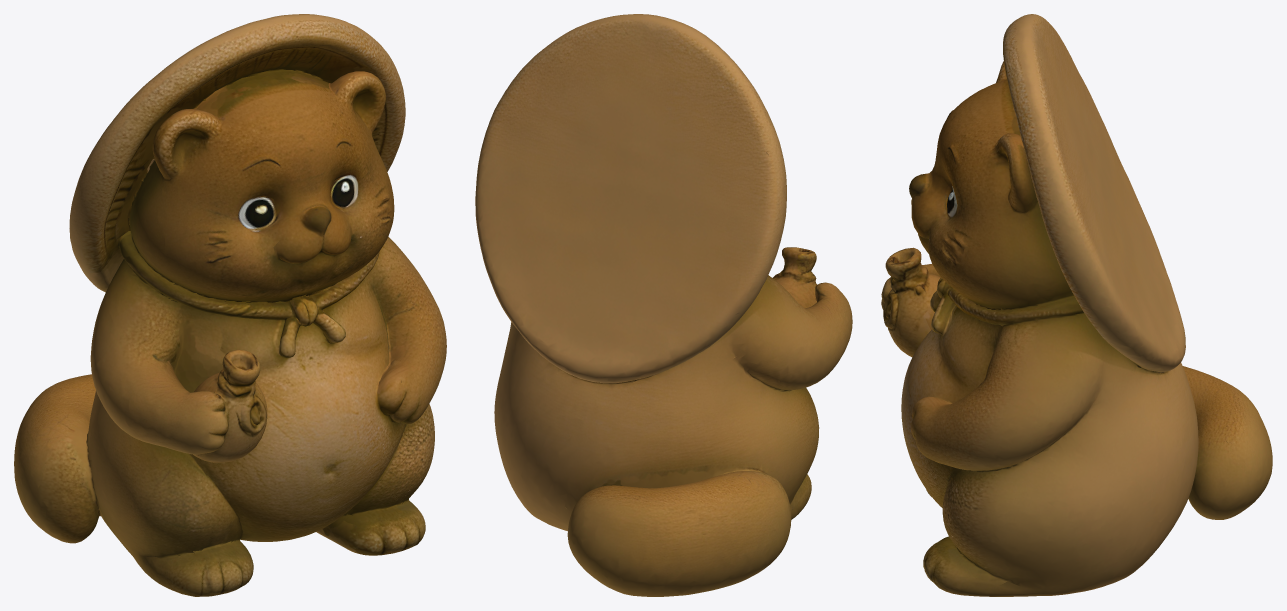
File: tanuki.glb
3 renders of one model, left to right at view 1: azimuth 30°, elevation 25°; view 2: azimuth 150°, elevation 25°; view 3: azimuth 270°, elevation 25°, orthographic. The views are drawn at different scales.
Parts seen in each view (by area): view 1: textured_mesh; view 2: textured_mesh; view 3: textured_mesh.
Part boxes in pixels (box(x1,y1,x2,y2)): textured_mesh: box(14, 14, 446, 596); textured_mesh: box(475, 14, 852, 596); textured_mesh: box(881, 14, 1272, 596).
Bounding box in the file's own units: 1.4 × 2 × 1.39.
Materials: 1 (1 with a texture image).
